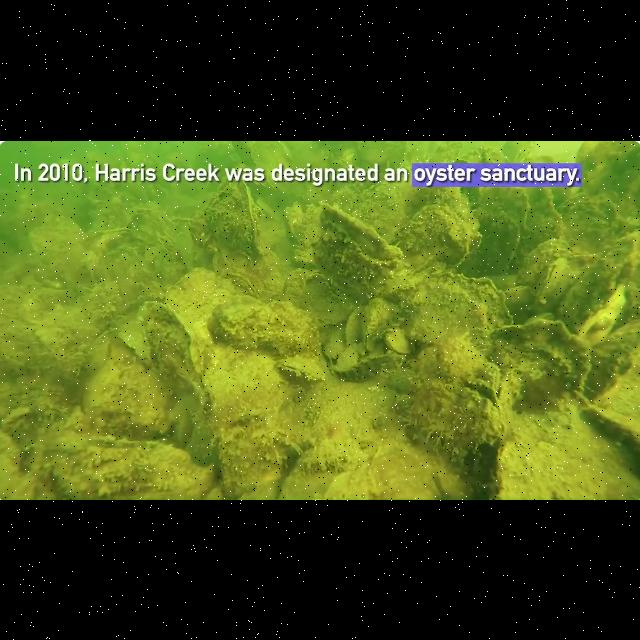Oyster-Closed: (401, 376, 509, 486), (40, 436, 218, 499), (393, 266, 512, 344), (486, 317, 594, 393), (140, 302, 202, 396), (210, 352, 286, 424), (391, 202, 471, 266), (202, 177, 264, 259), (161, 252, 231, 318), (575, 139, 640, 196), (209, 297, 279, 348), (581, 402, 640, 455), (77, 362, 129, 418), (578, 285, 628, 343), (28, 220, 88, 266), (514, 232, 572, 278), (598, 223, 640, 284), (480, 213, 518, 270), (488, 184, 530, 233), (108, 244, 140, 296), (404, 184, 462, 212), (128, 204, 166, 246), (86, 334, 114, 372), (382, 327, 412, 357), (346, 304, 368, 344), (505, 283, 533, 313), (322, 328, 348, 360), (156, 233, 182, 261), (64, 347, 84, 383)
Oyster-Open: (310, 206, 404, 296), (357, 291, 395, 353), (532, 255, 572, 307), (260, 432, 306, 463), (280, 354, 326, 384), (222, 269, 258, 301), (2, 403, 36, 431), (94, 224, 134, 240)
